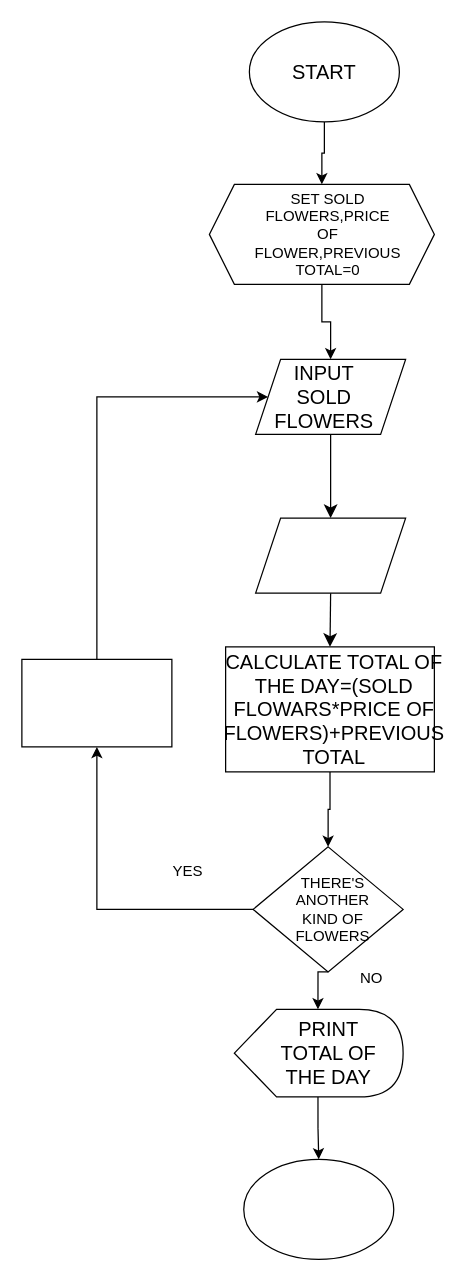
Some shapes in this 465 by 1281 pixel diagram are drawn without their labels. Here are the shapes that lost their labels. From the top down, the centre of each, then its label:
pixel 330 555: INPUT PRICE OF FLOWERS
pixel 96 702: TOTAL OF THE DAY = PREVIOUS TOTAL
pixel 318 1208: END
